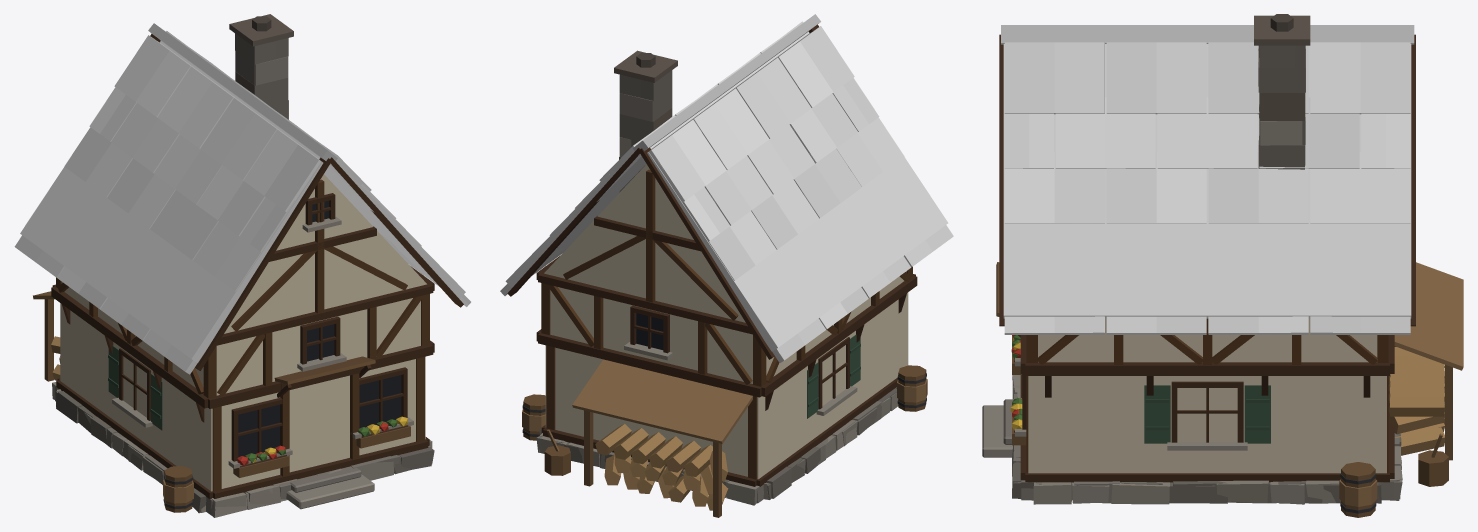
The model's file is human_house.glb.
3 renders of one model, left to right at view 1: azimuth 30°, elevation 25°; view 2: azimuth 150°, elevation 25°; view 3: azimuth 270°, elevation 25°, orthographic. The views are drawn at different scales.
Parts seen in each view (by area): view 1: human_house_a_hi, human_house_a, human_house_b_hi; view 2: human_house_a_hi, human_house_b_hi, human_house_a; view 3: human_house_a_hi, human_house_a, human_house_b_hi.
Part boxes in pixels (<box>): human_house_a_hi: <box>14,14,470,517</box>; human_house_a: <box>20,38,465,515</box>; human_house_b_hi: <box>33,31,470,517</box>; human_house_a_hi: <box>500,14,953,499</box>; human_house_b_hi: <box>500,36,932,517</box>; human_house_a: <box>505,31,948,503</box>; human_house_a_hi: <box>982,14,1415,517</box>; human_house_a: <box>1003,44,1411,500</box>; human_house_b_hi: <box>1004,42,1463,504</box>.
Bounding box in the file's own units: 6.86 × 8.62 × 8.39.
